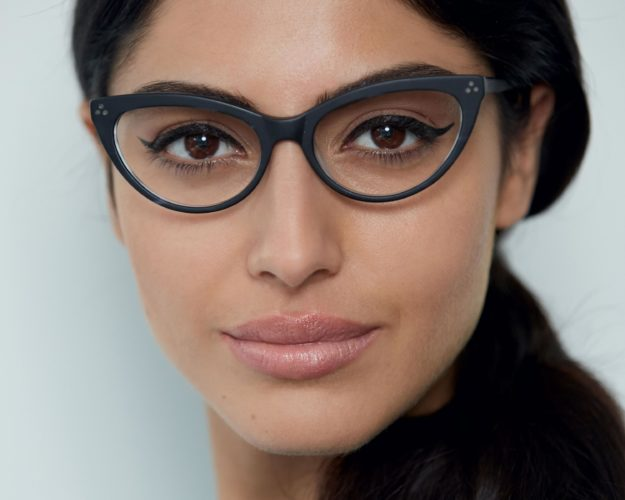llen: (310, 86, 465, 198)
rlen: (111, 103, 263, 209)
